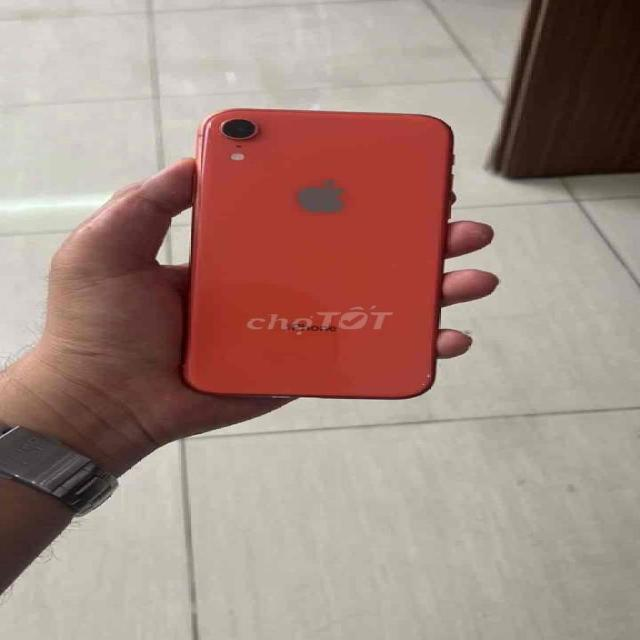gen_x_xs: (177, 108, 461, 402)
